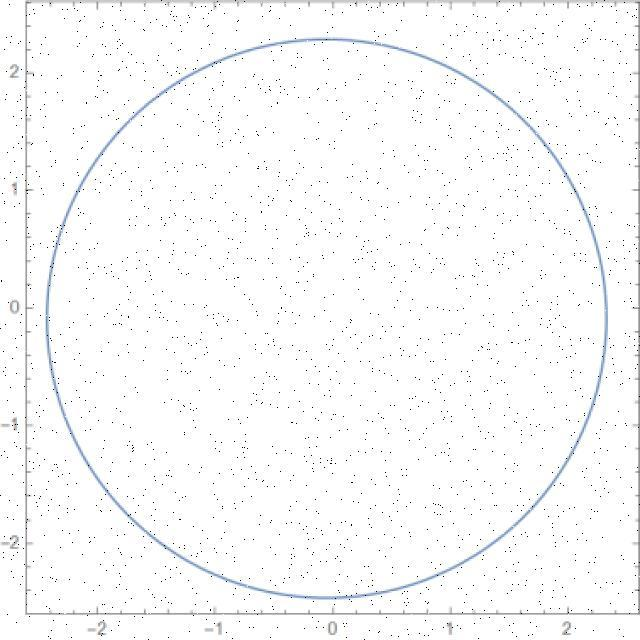Circle: (46, 42, 604, 593)
